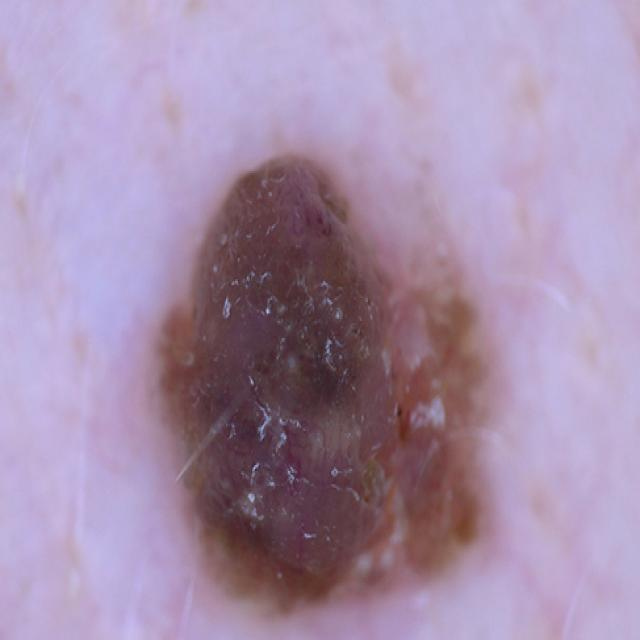Keratosis: (74, 103, 539, 625)
